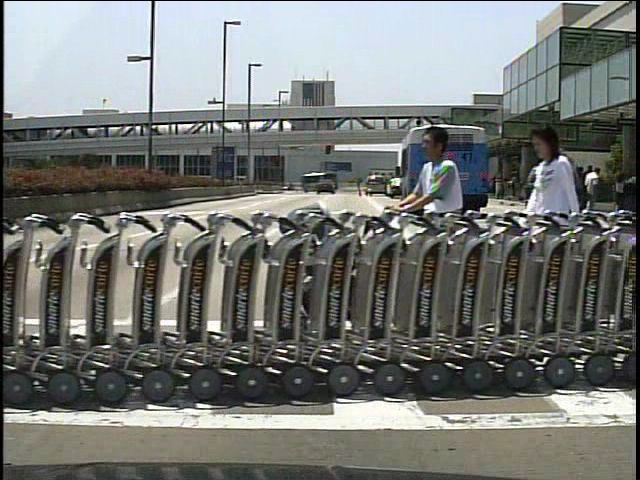person: (382, 122, 480, 365), (520, 116, 587, 328), (580, 163, 598, 215), (583, 165, 598, 215), (357, 176, 365, 196)
